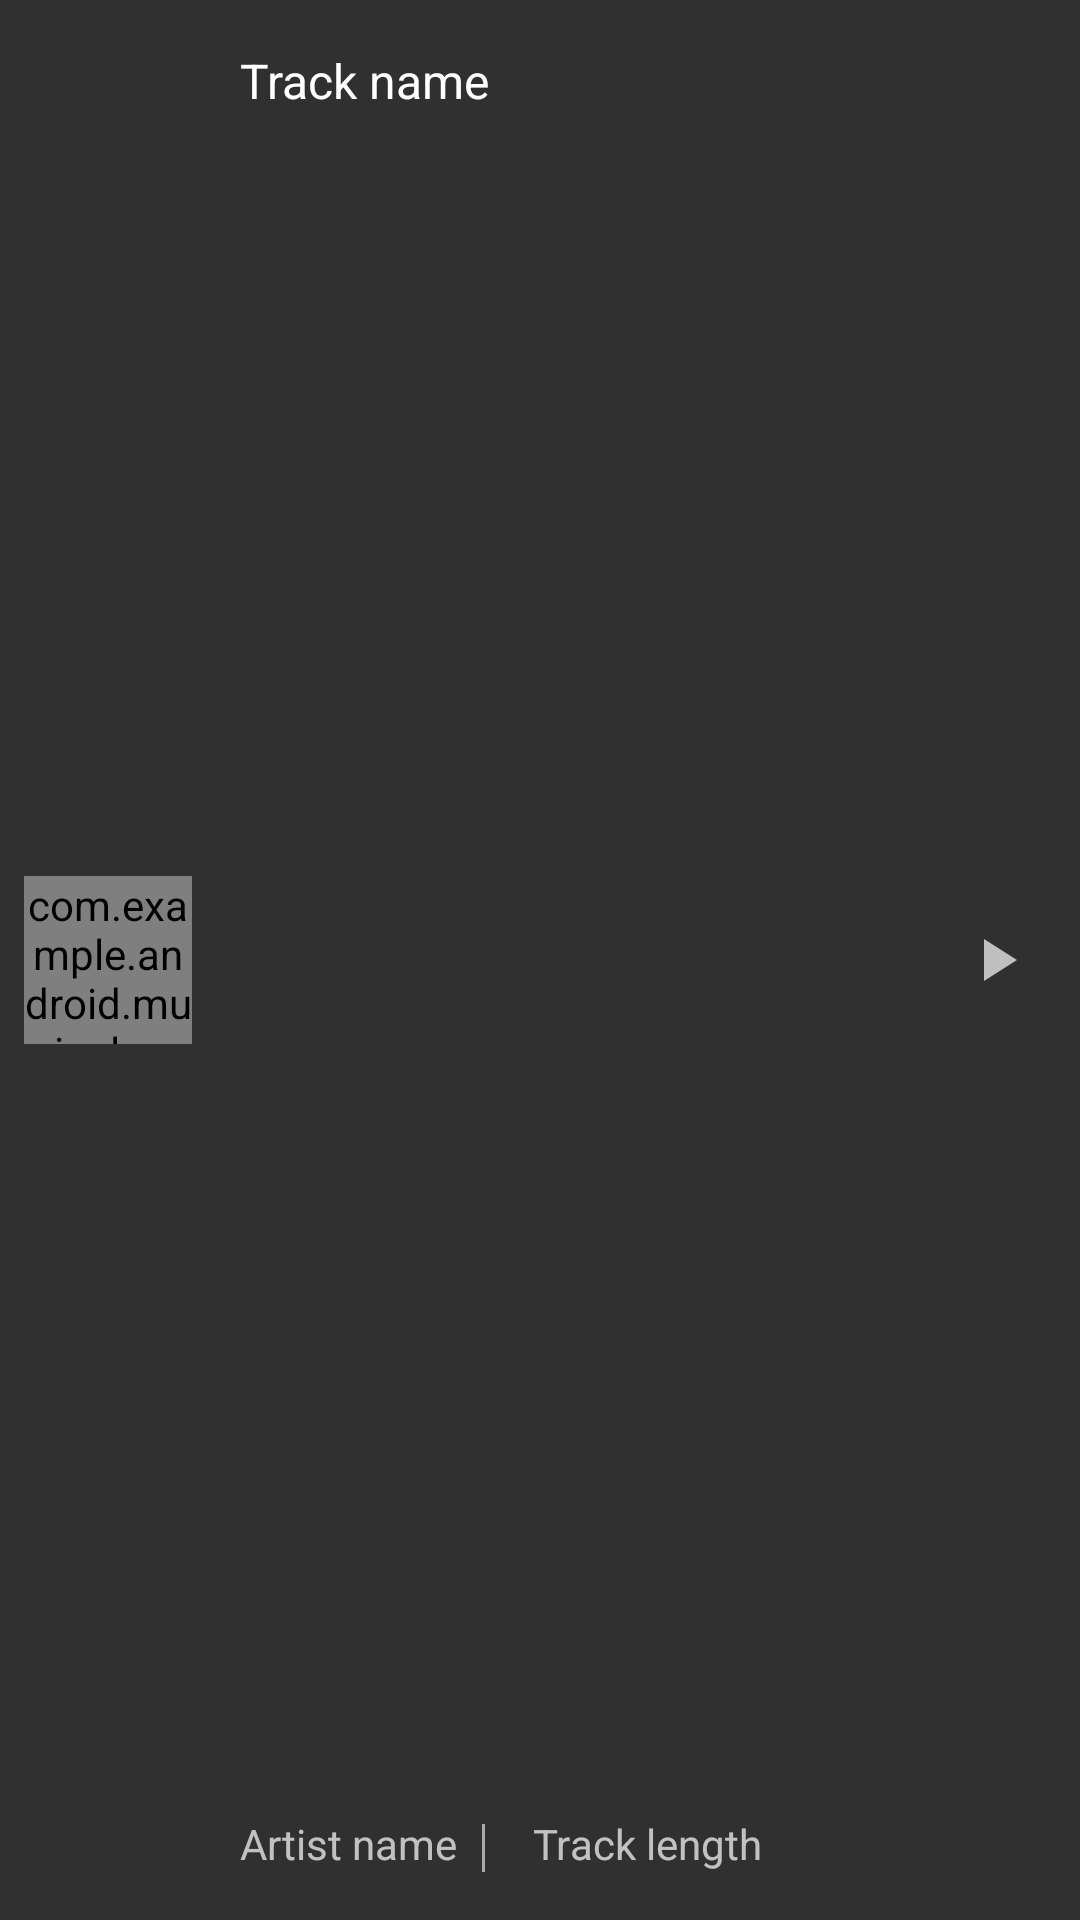

Point at icon controls on the screen. Image size 1080 x 1920, points as [x,y].
Play track: [1000,960]
